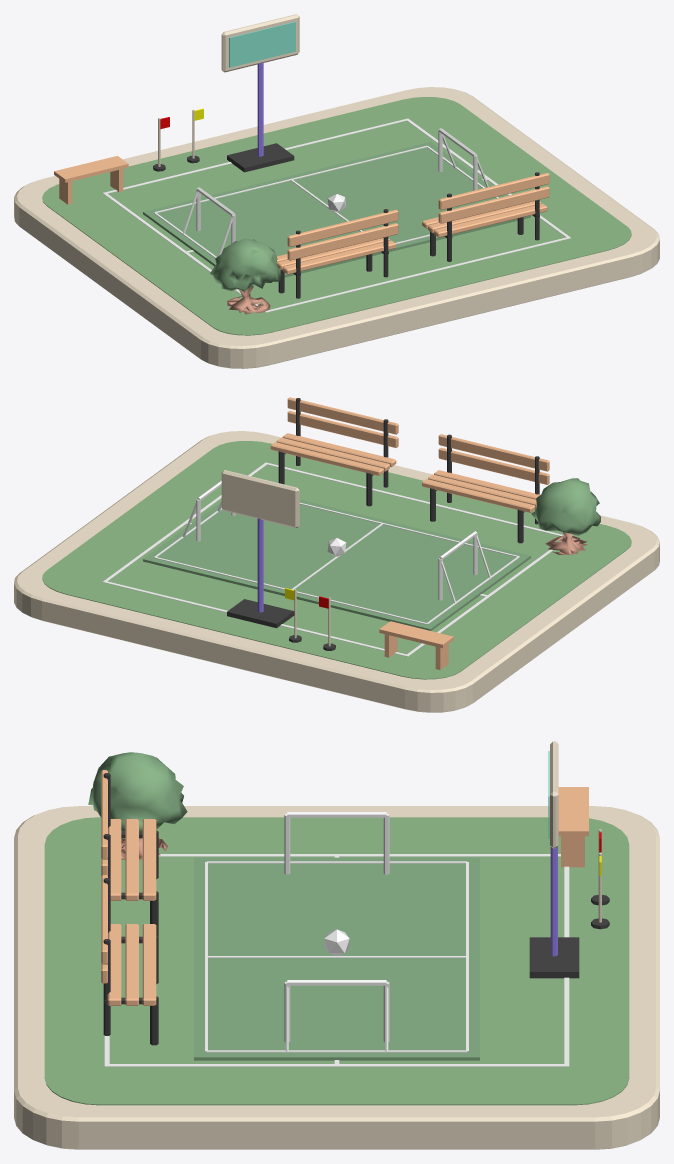
File: room.fbx
3 renders of one model, top to bottom at view 1: azimuth 30°, elevation 25°; view 2: azimuth 150°, elevation 25°; view 3: azimuth 270°, elevation 25°, orthographic. The views are drawn at different scales.
Visible parts, largest first — view 1: COM-02 Floor Surface, COM-01 Rounded Base Direct, Court surface, 둥근 수관 나무, Inset, Back slat, Back slat.002, Back slat.001, Back slat.003, Sign panel, Foot, Bench seat (+8 smaller); view 2: COM-02 Floor Surface, COM-01 Rounded Base Direct, Court surface, 둥근 수관 나무, Sign panel, Back slat.002, Back slat.003, Back slat, Back slat.001, Foot, Seat slat.003, Seat slat (+12 smaller); view 3: COM-02 Floor Surface, Court surface, COM-01 Rounded Base Direct, 둥근 수관 나무, Foot, Bench seat, Court outer line.001, Seat slat, Seat slat.003, Court outer line, Seat slat.001, Seat slat.004 (+10 smaller).
Part boxes in pixels (left/top/right/bottom): COM-02 Floor Surface: left=42, top=97, right=631, bottom=335; COM-01 Rounded Base Direct: left=14, top=87, right=659, bottom=368; Court surface: left=143, top=141, right=530, bottom=277; 둥근 수관 나무: left=210, top=238, right=280, bottom=314; Inset: left=229, top=21, right=295, bottom=67; Back slat: left=287, top=223, right=398, bottom=260; Back slat.002: left=438, top=186, right=549, bottom=223; Back slat.001: left=287, top=210, right=398, bottom=246; Back slat.003: left=438, top=173, right=549, bottom=210; Sign panel: left=221, top=14, right=299, bottom=72; Foot: left=227, top=143, right=294, bottom=172; Bench seat: left=54, top=156, right=128, bottom=182; COM-02 Floor Surface: left=42, top=441, right=631, bottom=679; COM-01 Rounded Base Direct: left=14, top=431, right=659, bottom=712; Court surface: left=143, top=499, right=530, bottom=630; 둥근 수관 나무: left=531, top=478, right=600, bottom=554; Sign panel: left=221, top=470, right=299, bottom=528; Back slat.002: left=287, top=410, right=398, bottom=447; Back slat.003: left=287, top=397, right=398, bottom=434; Back slat: left=438, top=447, right=549, bottom=484; Back slat.001: left=438, top=434, right=549, bottom=471; Foot: left=227, top=599, right=294, bottom=628; Seat slat.003: left=270, top=442, right=383, bottom=475; Seat slat: left=422, top=479, right=535, bottom=512; COM-02 Floor Surface: left=44, top=817, right=629, bottom=1105; Court surface: left=194, top=857, right=479, bottom=1060; COM-01 Rounded Base Direct: left=14, top=806, right=659, bottom=1149; 둥근 수관 나무: left=88, top=752, right=187, bottom=860; Foot: left=529, top=937, right=579, bottom=978; Bench seat: left=558, top=787, right=588, bottom=836; Court outer line.001: left=108, top=1064, right=566, bottom=1066; Seat slat: left=142, top=819, right=156, bottom=900; Seat slat.003: left=142, top=924, right=156, bottom=1005; Court outer line: left=158, top=854, right=560, bottom=856; Seat slat.001: left=125, top=819, right=138, bottom=900; Seat slat.004: left=125, top=924, right=138, bottom=1005.
Size of the model in its own units: 600 by 202 by 520.
